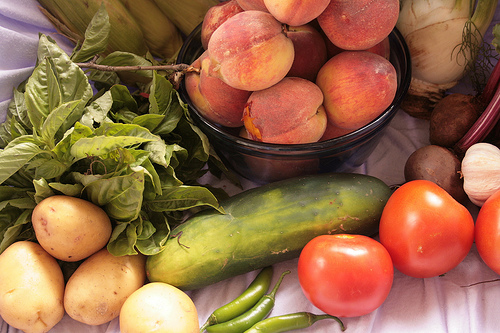cucumber: (143, 167, 392, 293)
